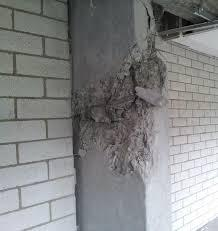spalling: (72, 31, 167, 177)
